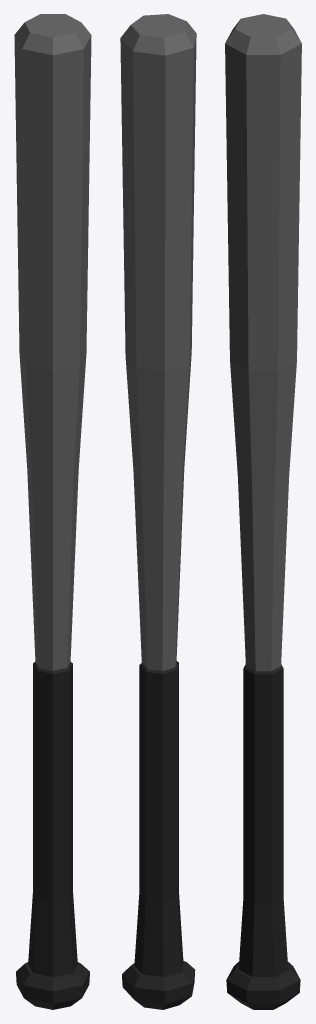
Rendered from Aluminum Baseball Bat.fbx.
3 views of the same model, side by side, from view 1: azimuth 90°, elevation 25°; view 2: azimuth 150°, elevation 25°; view 3: azimuth 270°, elevation 25° (orthographic).
Parts seen in each view (by area): view 1: Aluminum bat; view 2: Aluminum bat; view 3: Aluminum bat.
Boxes of the visible parts, x1,y1,x2,y2 form: Aluminum bat: (14, 14, 91, 1009); Aluminum bat: (120, 14, 196, 1009); Aluminum bat: (225, 14, 301, 1009).
Bounding box in the file's own units: 53.99 × 773 × 55.36.
Materials: 1 (1 with a texture image).
